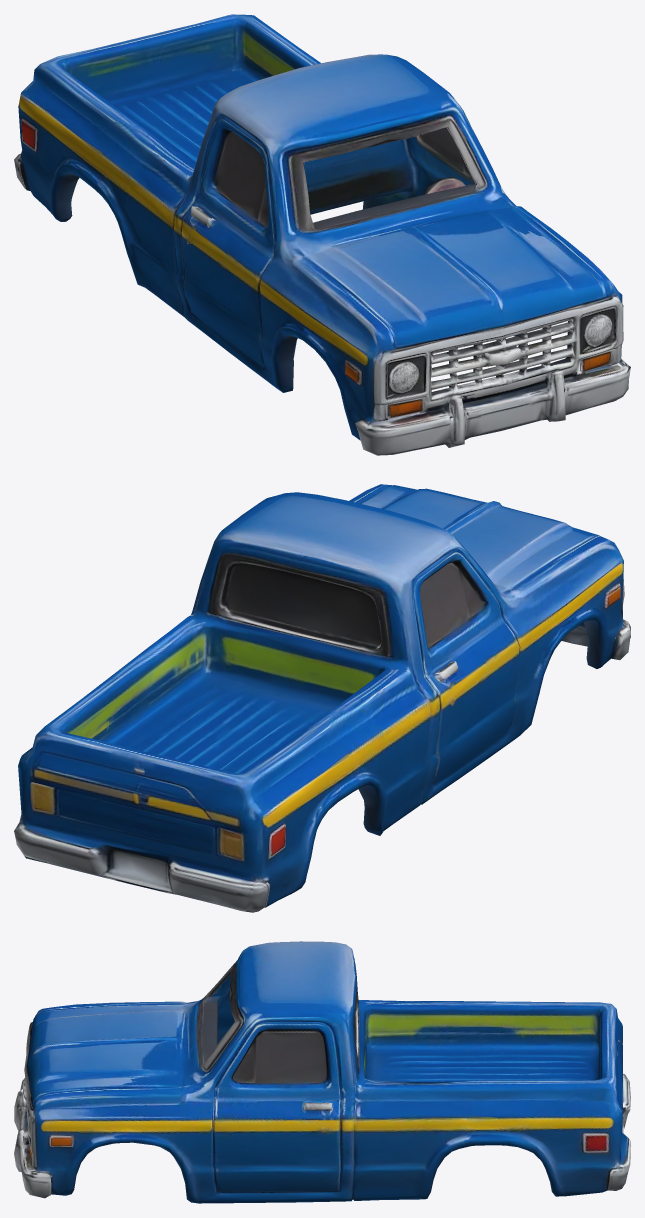
File: car-pickup.glb
The picture shows the model from 3 angles, top to bottom: view 1: azimuth 30°, elevation 25°; view 2: azimuth 150°, elevation 25°; view 3: azimuth 270°, elevation 25°; orthographic projection. The views are drawn at different scales.
Parts seen in each view (by area): view 1: tripo_node_8eebb5da-28e7-4075-bfa1-1325398973b1; view 2: tripo_node_8eebb5da-28e7-4075-bfa1-1325398973b1; view 3: tripo_node_8eebb5da-28e7-4075-bfa1-1325398973b1.
Part boxes in pixels (x1,y1,x2,y2): tripo_node_8eebb5da-28e7-4075-bfa1-1325398973b1: [14, 14, 630, 455]; tripo_node_8eebb5da-28e7-4075-bfa1-1325398973b1: [14, 484, 630, 912]; tripo_node_8eebb5da-28e7-4075-bfa1-1325398973b1: [14, 941, 630, 1203].
Bounding box in the file's own units: 0.4134 × 0.3351 × 1.
Materials: 1 (1 with a texture image).
